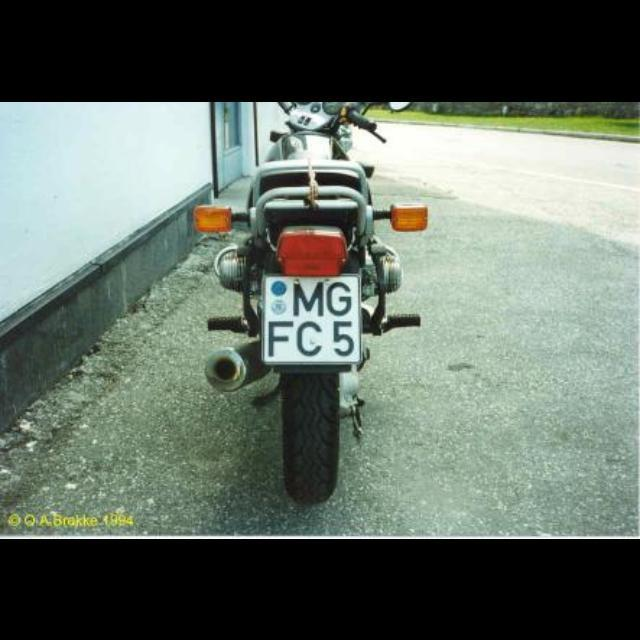license-plates: (262, 276, 362, 366)
